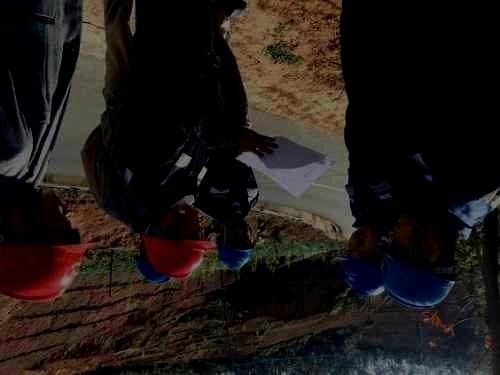helmet: (1, 176, 98, 305), (373, 204, 457, 310), (141, 201, 215, 280), (335, 226, 386, 297), (217, 218, 254, 272), (134, 243, 172, 285)
